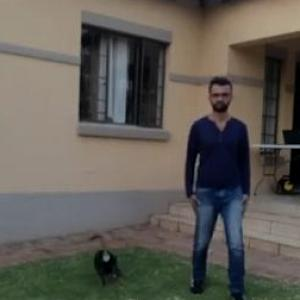follow: (181, 74, 257, 299)
